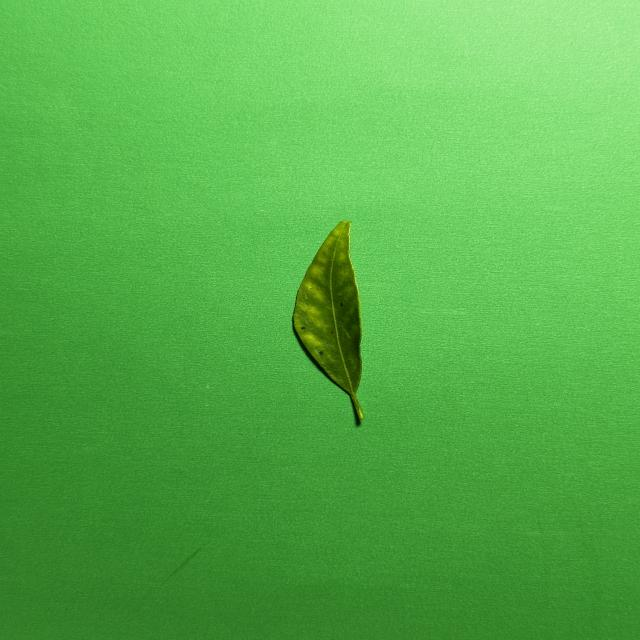greening: (293, 221, 363, 419)
